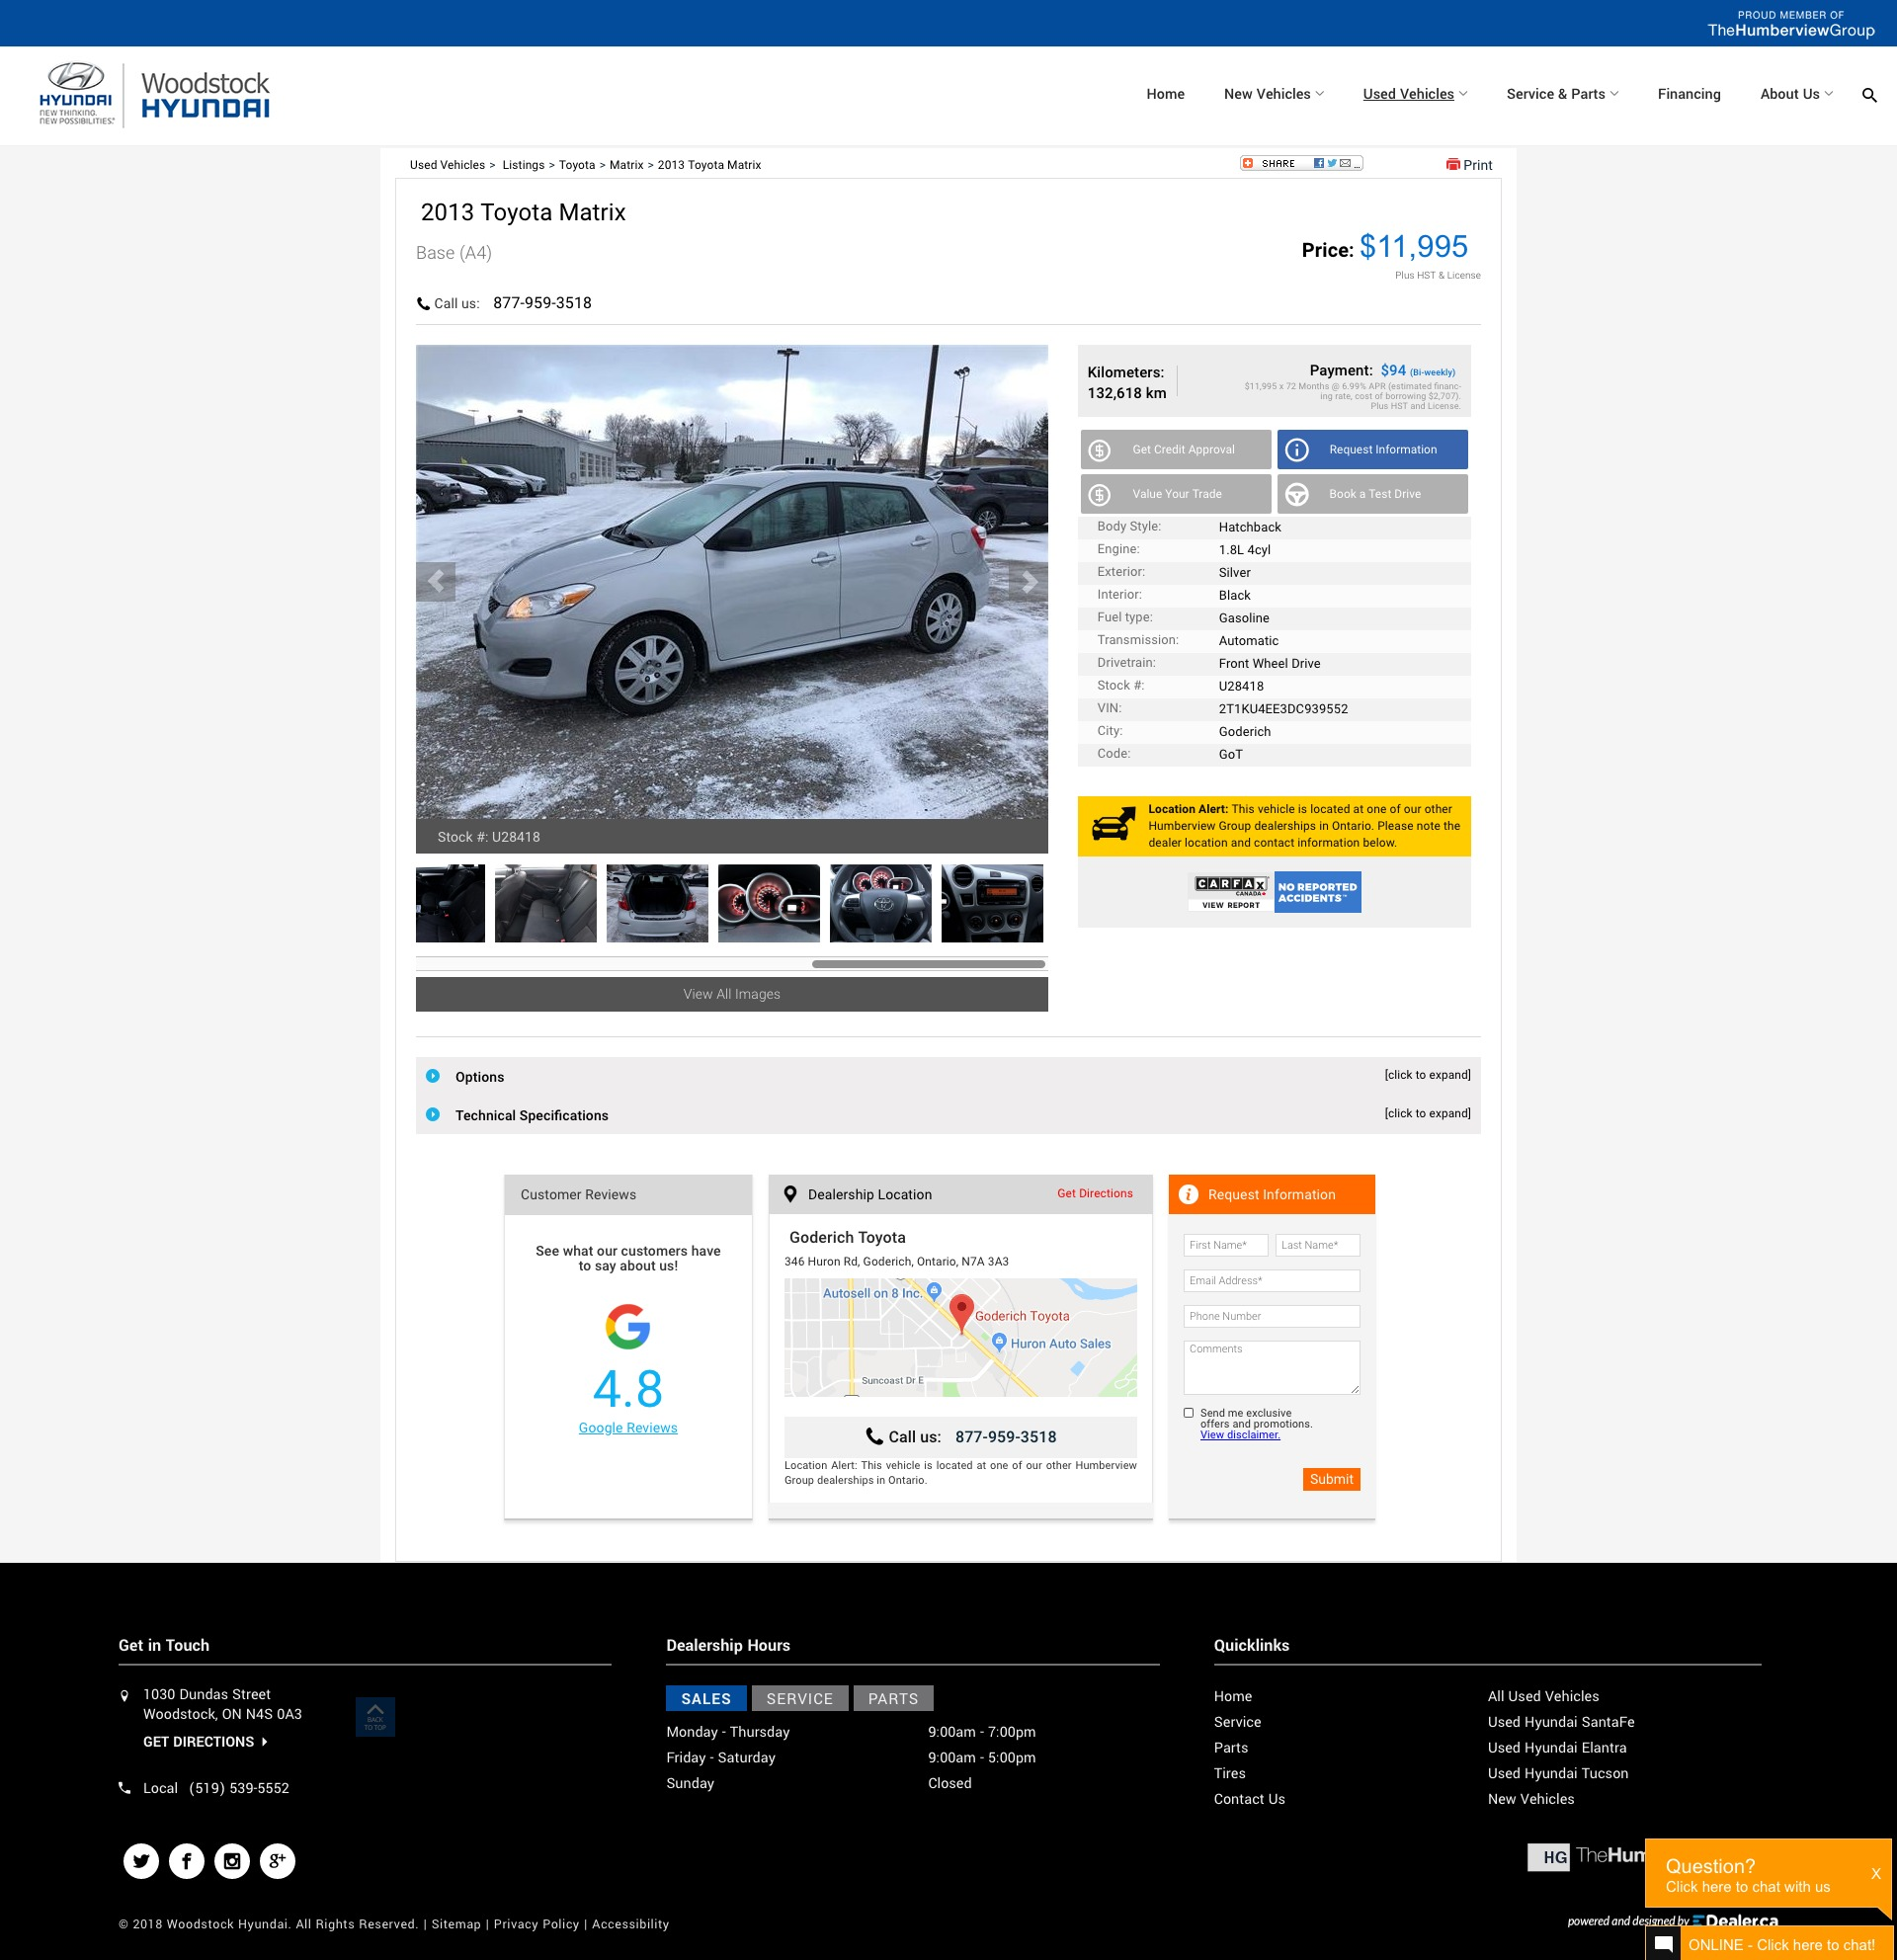car: (1006, 560, 1052, 604)
